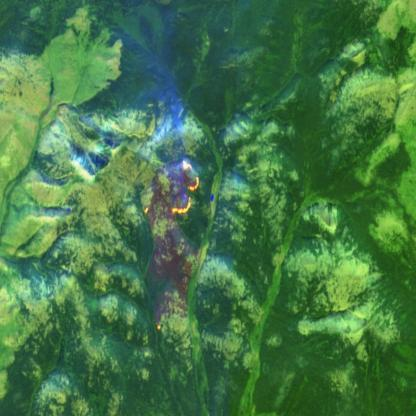fire: (139, 154, 202, 222)
